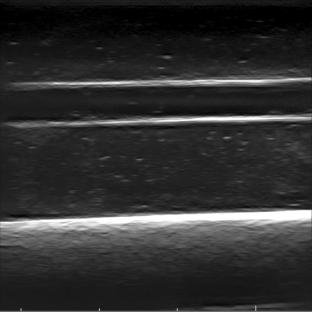vessel: (4, 77, 308, 126)
